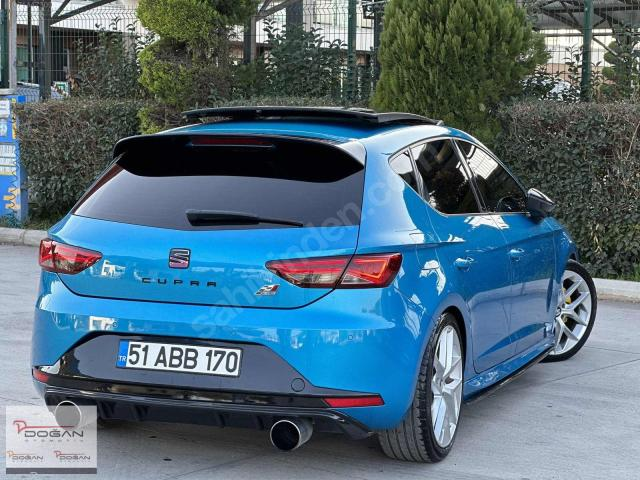plaka: (117, 340, 242, 376)
